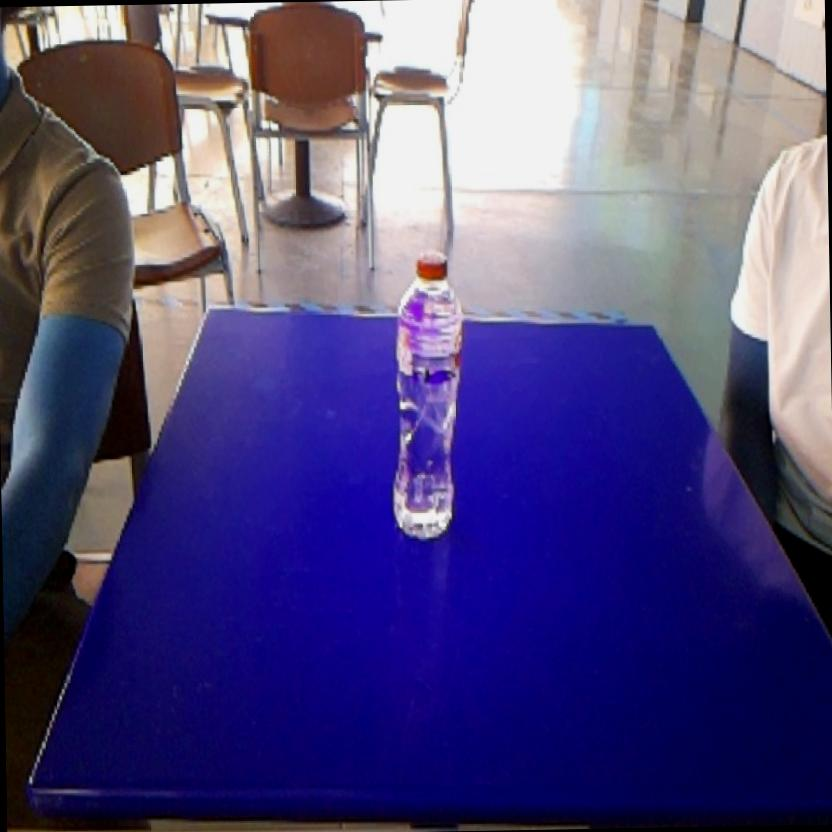good: (381, 238, 474, 556)
